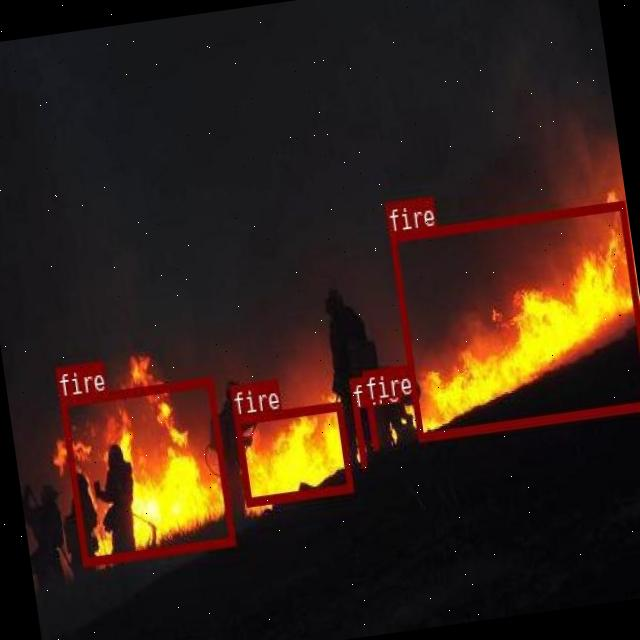fire: (389, 199, 640, 440), (59, 376, 234, 564), (234, 401, 352, 505), (352, 408, 366, 466), (366, 401, 378, 449)
